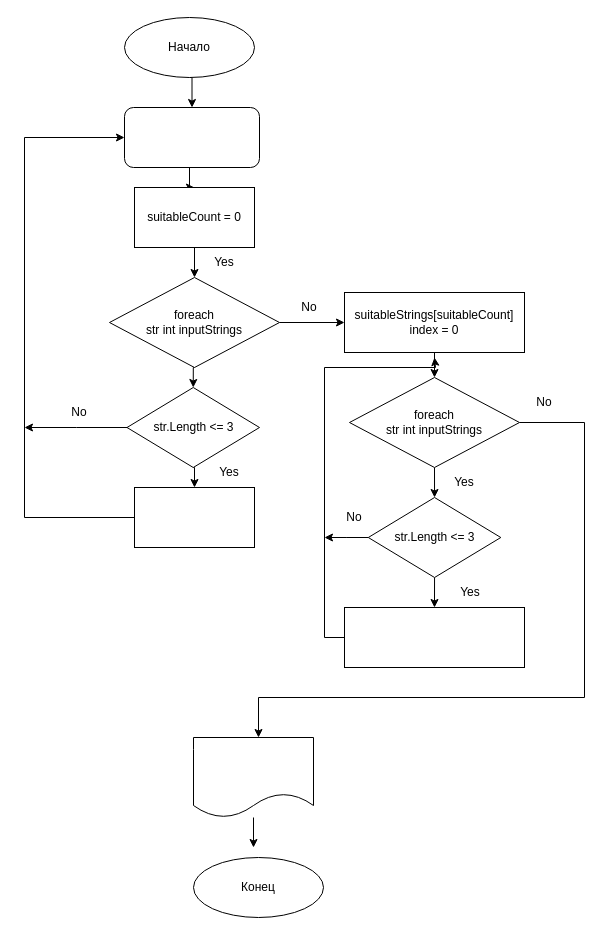
This 610x935 diagram has some shape labels left out. Each missing label, with the centre of its shape:
arraySize inputStrings[arraySize]: pixel 192 137
inputStrings[] suitableStrings[]: pixel 253 777
suitableCount ++: pixel 194 517
suitableStrings[index] = str index ++: pixel 434 637
